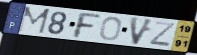8: (47, 11, 68, 35)
F: (72, 11, 102, 40)
M: (16, 6, 52, 35)
O: (99, 16, 123, 42)
V: (129, 16, 156, 46)
Z: (148, 20, 176, 48)
